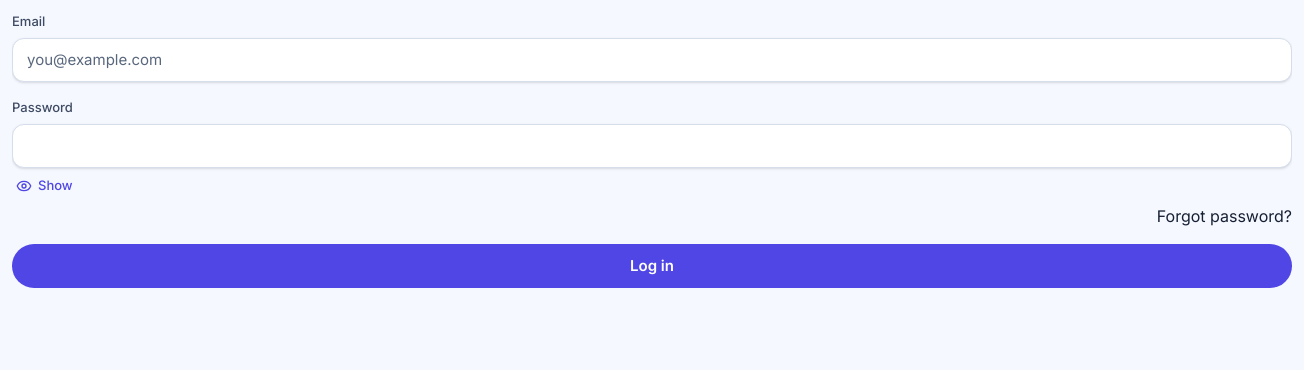
Test: LoginForm › maps invalid_credentials to the form alert (never the server string)
Check: the button "Log in" is shown, box x1=12 y1=244 x2=1292 y2=288
Type "ada@example.com" into the field labelled "Email" at (652, 60), box x1=12 y1=38 x2=1292 y2=82
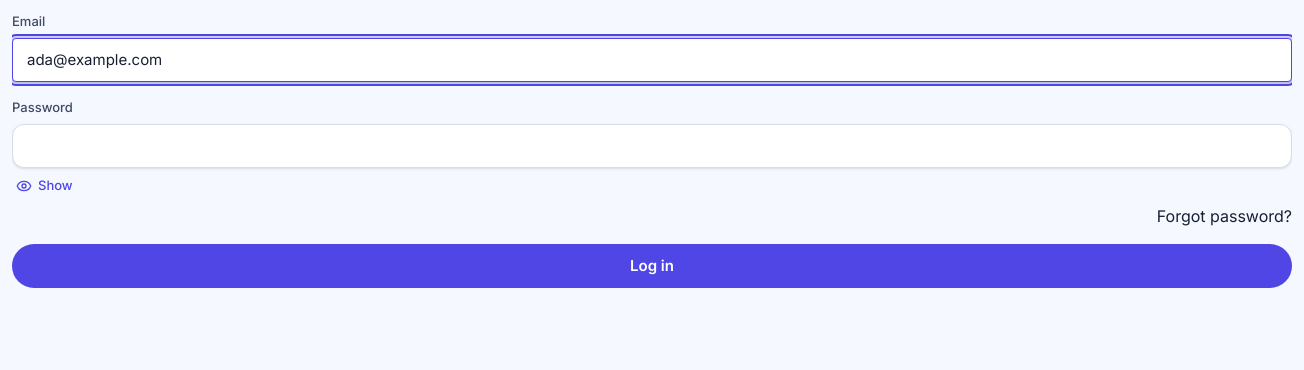
Type "wrong-password-1" into the password field labelled "Password" at (652, 146), box x1=12 y1=124 x2=1292 y2=168
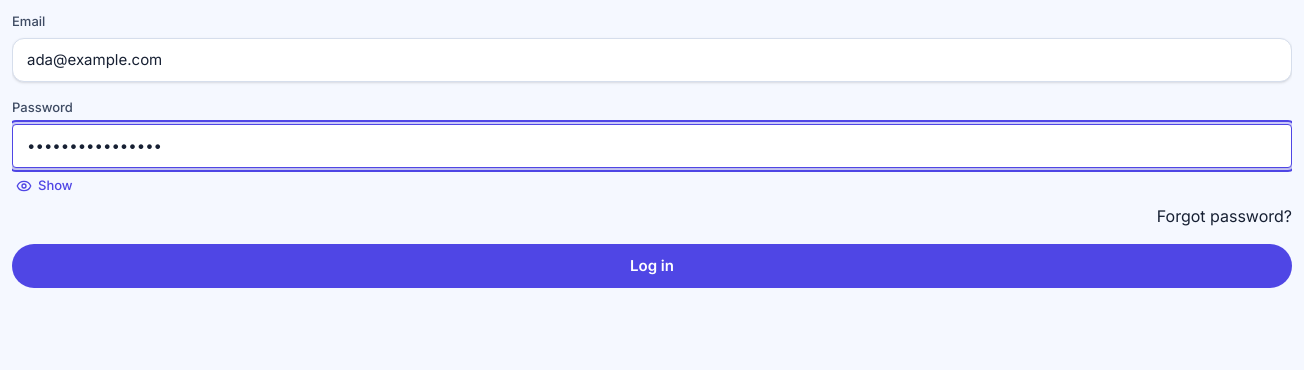
Click the button "Log in" at (652, 266), box x1=12 y1=244 x2=1292 y2=288
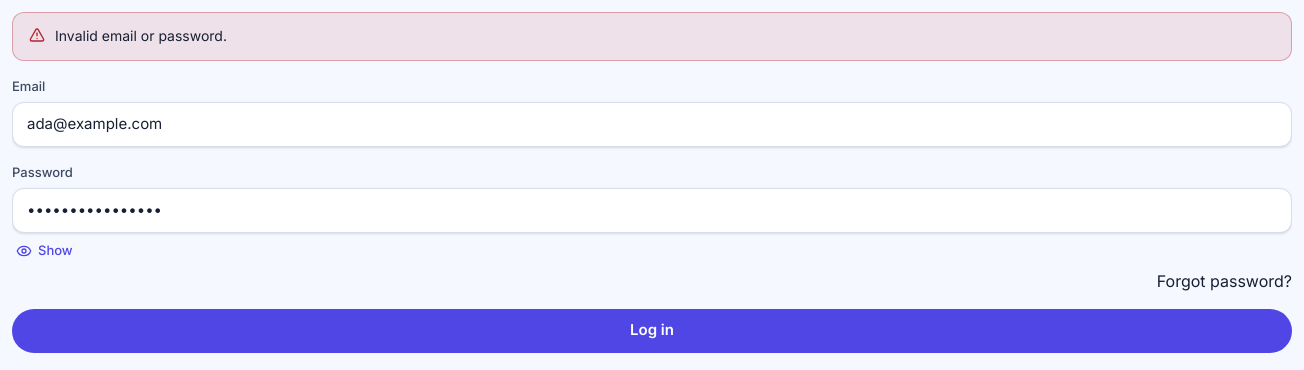
Check: the message reads "Invalid email or password.", box x1=55 y1=27 x2=227 y2=44
